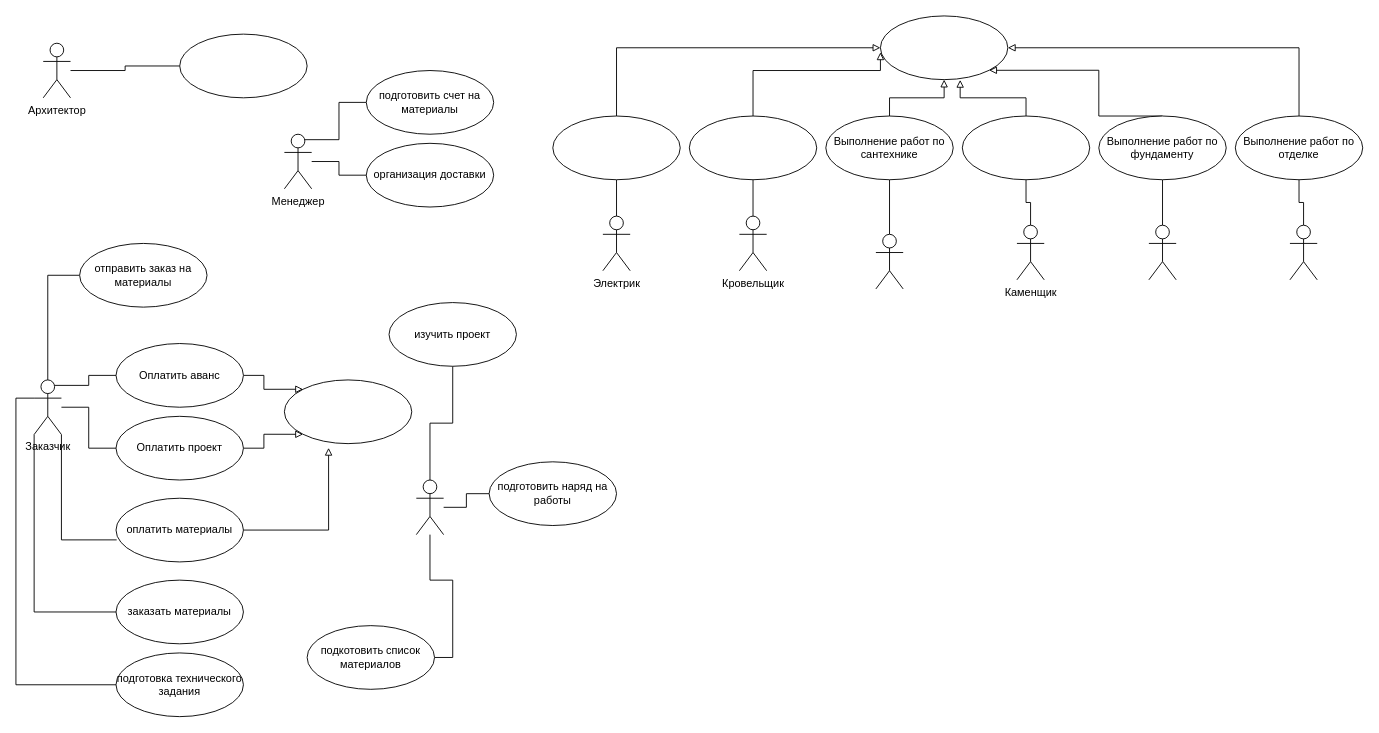
Some shapes in this 1379 by 733 pixel diagram are drawn without their labels. Each missing label, with the box of its shape:
Бетонщик: (1148, 224, 1176, 280)
Выполнение работ по кладке: (961, 115, 1090, 180)
Выполнение работ по кровле: (688, 115, 817, 180)
Выполнение работ по электрике: (552, 115, 680, 180)
выполнения работ: (880, 15, 1008, 80)
оплатить: (283, 379, 412, 444)
Отделочник: (1289, 224, 1317, 280)
Подготовить проект: (179, 33, 307, 98)
Производитель работ: (415, 479, 444, 535)
Сантехник: (875, 233, 903, 289)
